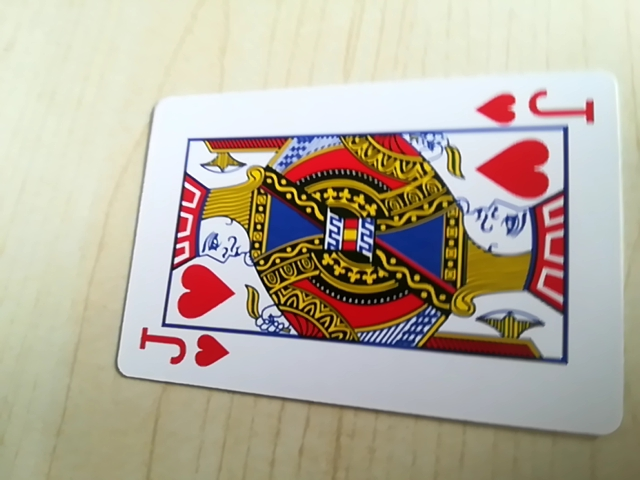hx j: (475, 84, 597, 131), (130, 327, 231, 376)
